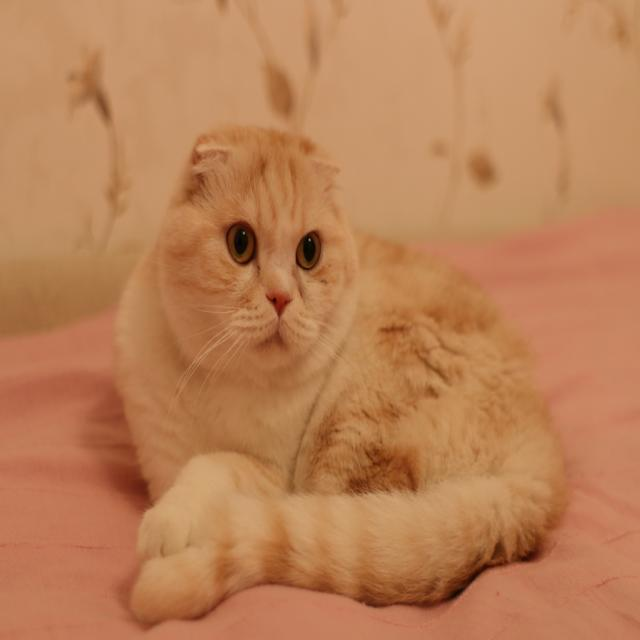Cat: (110, 119, 570, 626)
